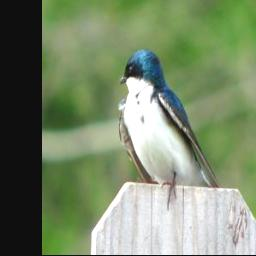Swallow: (116, 46, 221, 211)
